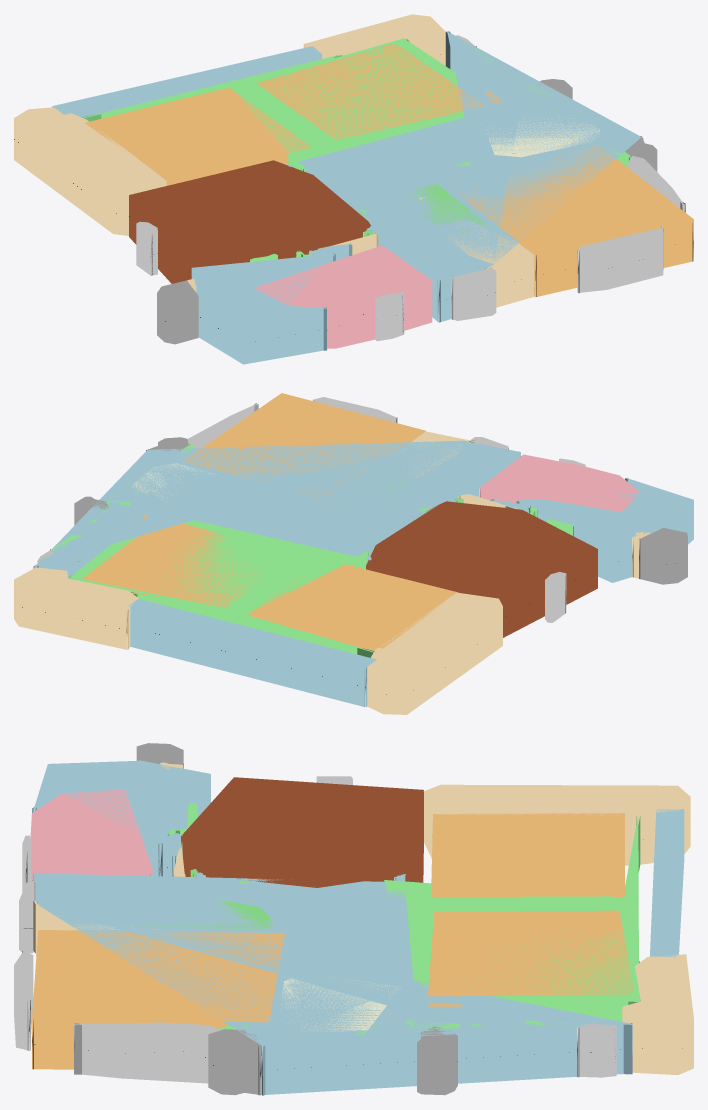
The model's file is Capture d’écran 2025-06-05 224143.obj.
3 views of the same model, one above another, from view 1: azimuth 30°, elevation 25°; view 2: azimuth 150°, elevation 25°; view 3: azimuth 270°, elevation 25° (orthographic). The views are drawn at different scales.
Size of the model in its own units: 32.79 by 2.5 by 31.08.
